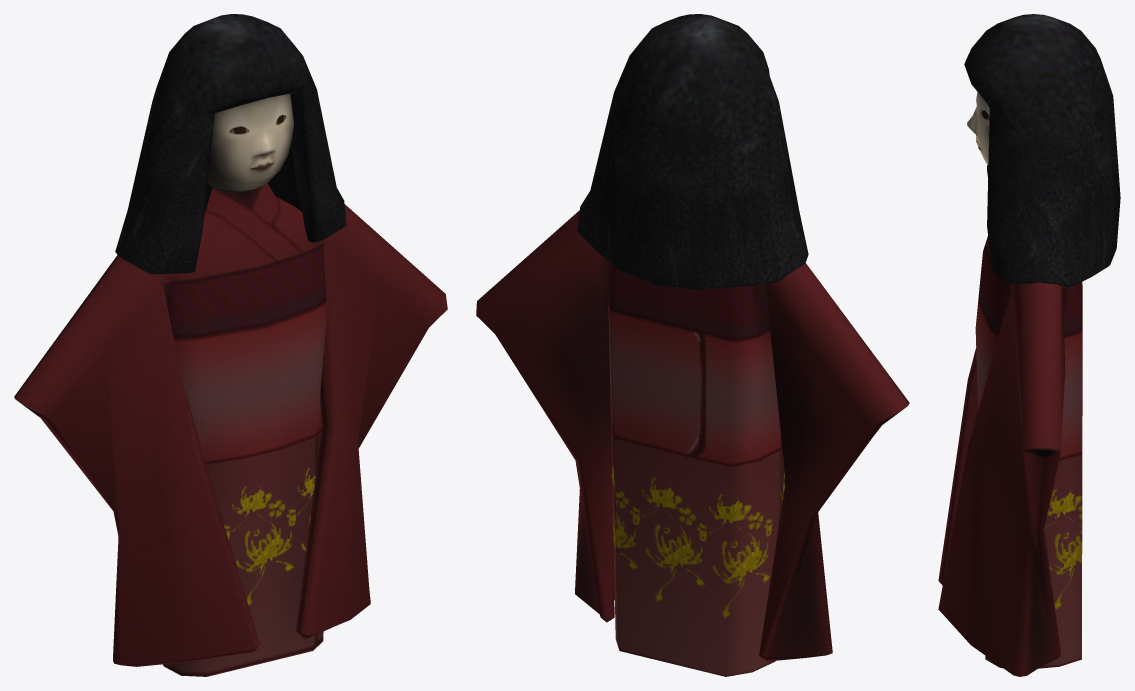
The model's file is NPC_itimathu.fbx.
3 views of the same model, side by side, from view 1: azimuth 30°, elevation 25°; view 2: azimuth 150°, elevation 25°; view 3: azimuth 270°, elevation 25° (orthographic).
Visible parts, largest first — view 1: NPC_ItimathuDoll_mesh; view 2: NPC_ItimathuDoll_mesh; view 3: NPC_ItimathuDoll_mesh.
Boxes of the visible parts, x1,y1,x2,y2 form: NPC_ItimathuDoll_mesh: (14,14,447,676); NPC_ItimathuDoll_mesh: (476,14,909,676); NPC_ItimathuDoll_mesh: (938,14,1120,676).
Bounding box in the file's own units: 43.37 × 60.03 × 16.19.
